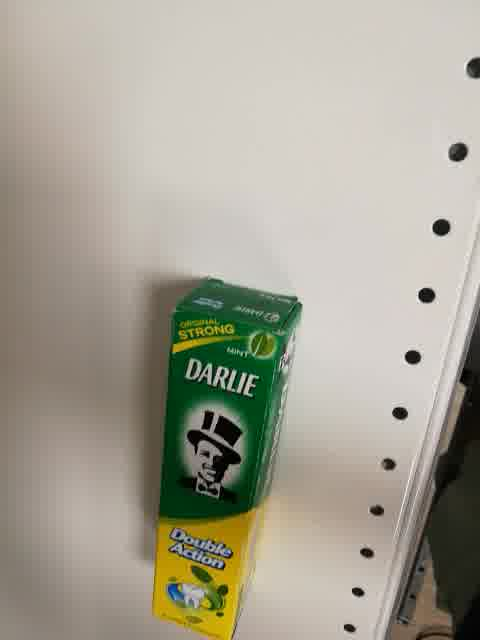toothpaste: (150, 277, 304, 640)
